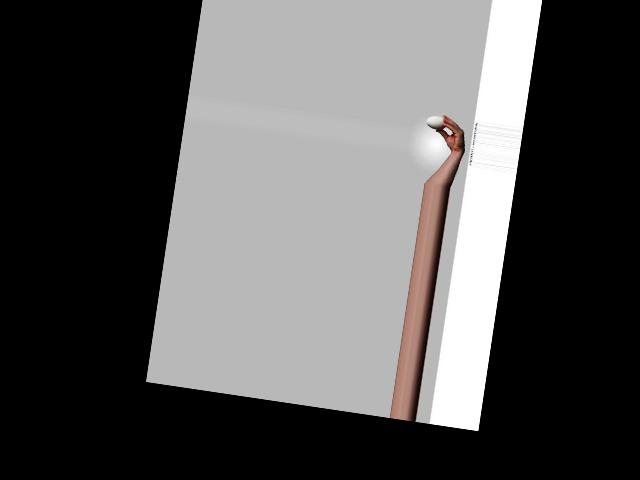egg: (425, 114, 447, 131)
